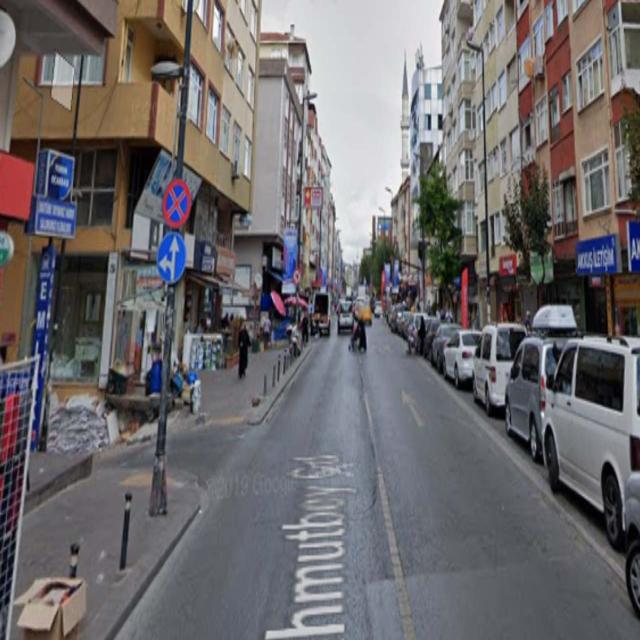ilerisol: (155, 233, 189, 282)
